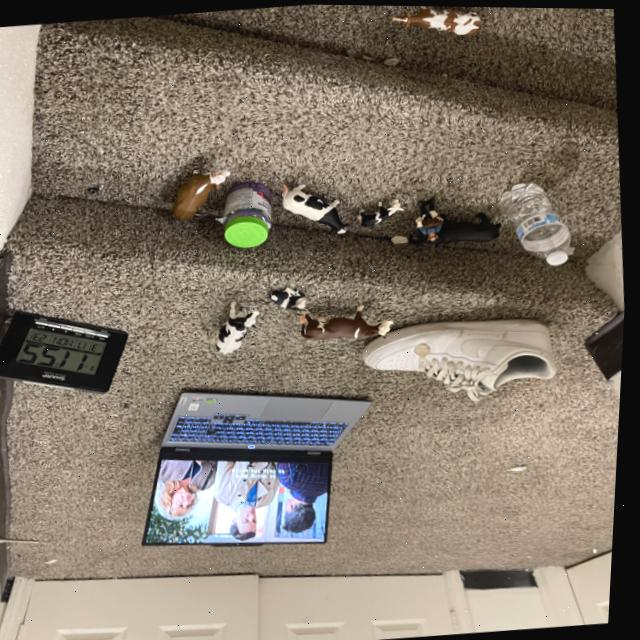cow: (166, 153, 233, 224), (277, 177, 359, 235), (302, 300, 397, 343), (391, 1, 482, 36), (216, 299, 263, 359), (435, 210, 503, 241), (357, 192, 406, 231), (270, 283, 312, 310), (414, 207, 446, 228)
person: (422, 222, 445, 241)
